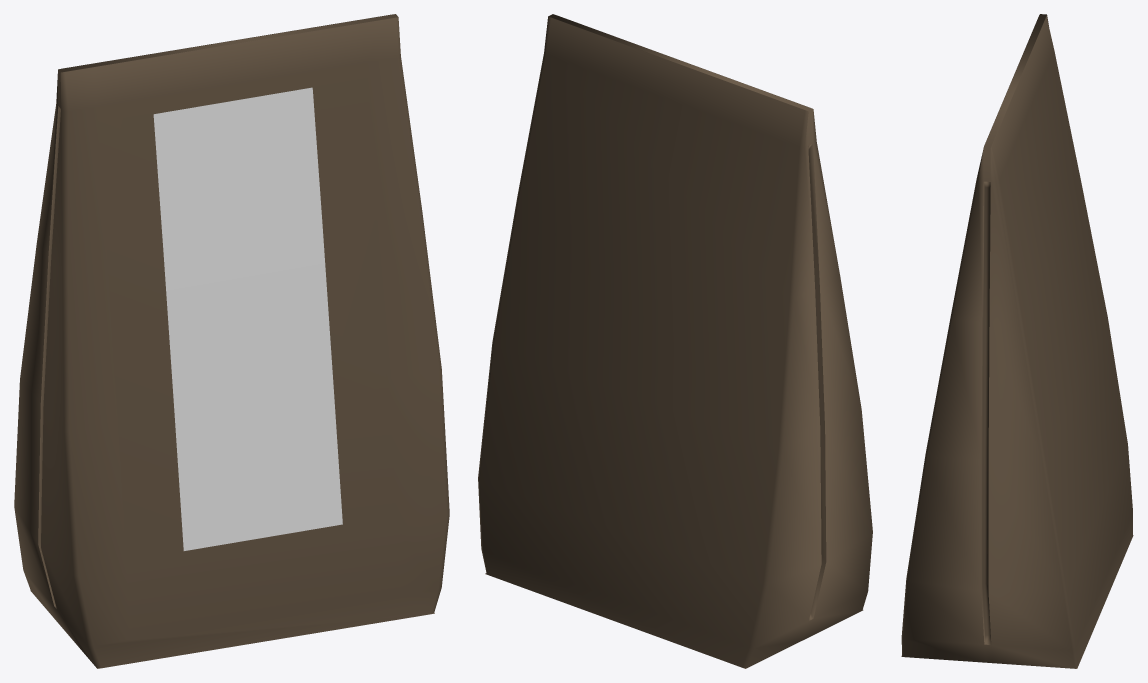
File: coffee.glb
3 views of the same model, side by side, from view 1: azimuth 30°, elevation 25°; view 2: azimuth 150°, elevation 25°; view 3: azimuth 270°, elevation 25° (orthographic). The views are drawn at different scales.
Visible parts, largest first — view 1: BagCoffe2, BagCoffe.002; view 2: BagCoffe2; view 3: BagCoffe2.
Part boxes in pixels (left/top/right/bottom): BagCoffe2: left=14, top=14, right=449, bottom=668; BagCoffe.002: left=153, top=87, right=342, bottom=550; BagCoffe2: left=478, top=14, right=872, bottom=668; BagCoffe2: left=901, top=14, right=1133, bottom=668.
Size of the model in its own units: 0.8862 by 1.3 by 0.5314.
